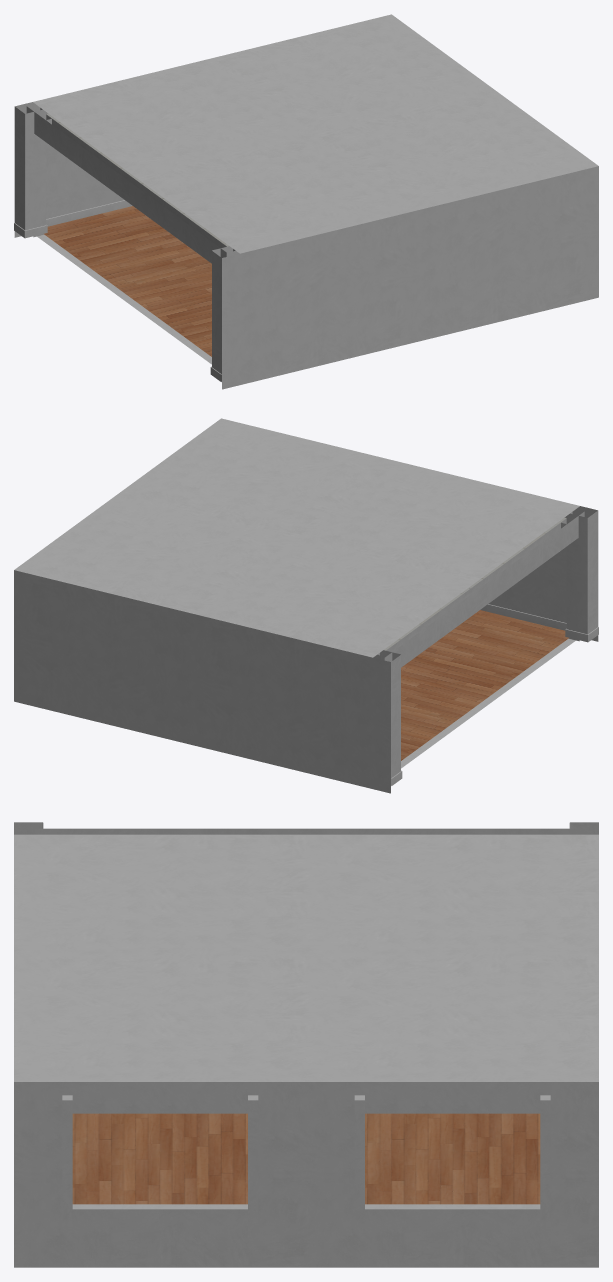
Rendered from SM_ClassroomMesh_01_1000.fbx.
3 renders of one model, top to bottom at view 1: azimuth 30°, elevation 25°; view 2: azimuth 150°, elevation 25°; view 3: azimuth 270°, elevation 25°, orthographic. The views are drawn at different scales.
Parts seen in each view (by area): view 1: SM_ClassroomMesh_01_1000_LOD0; view 2: SM_ClassroomMesh_01_1000_LOD0; view 3: SM_ClassroomMesh_01_1000_LOD0.
Boxes of the visible parts, left/top/right/bottom form: SM_ClassroomMesh_01_1000_LOD0: left=14, top=14, right=598, bottom=389; SM_ClassroomMesh_01_1000_LOD0: left=14, top=418, right=598, bottom=793; SM_ClassroomMesh_01_1000_LOD0: left=14, top=822, right=598, bottom=1267.
Size of the model in its own units: 1072 by 1000 by 350.
Materials: 5 (5 with a texture image).
